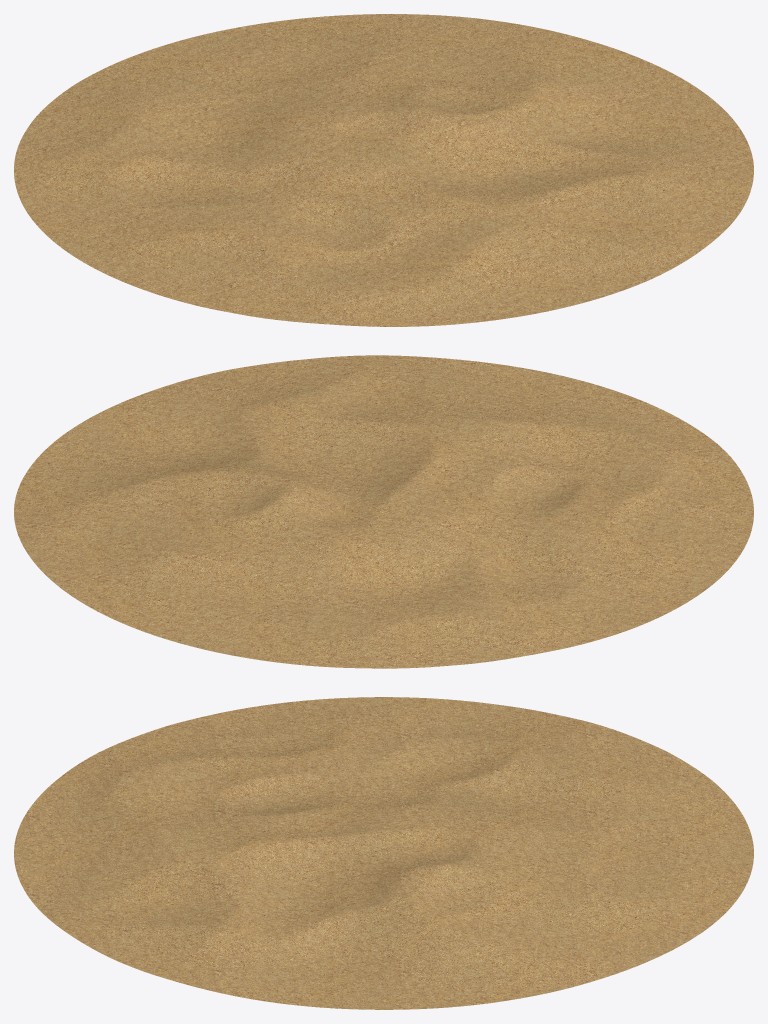
Rendered from Duna.fbx.
3 renders of one model, top to bottom at view 1: azimuth 30°, elevation 25°; view 2: azimuth 150°, elevation 25°; view 3: azimuth 270°, elevation 25°, orthographic.
Parts seen in each view (by area): view 1: Duna1; view 2: Duna1; view 3: Duna1.
Boxes of the visible parts, x1,y1,x2,y2 form: Duna1: [14, 14, 753, 326]; Duna1: [14, 355, 753, 668]; Duna1: [14, 697, 753, 1009].
Bounding box in the file's own units: 988 × 34.2 × 988.
1 material, 1 textured.
